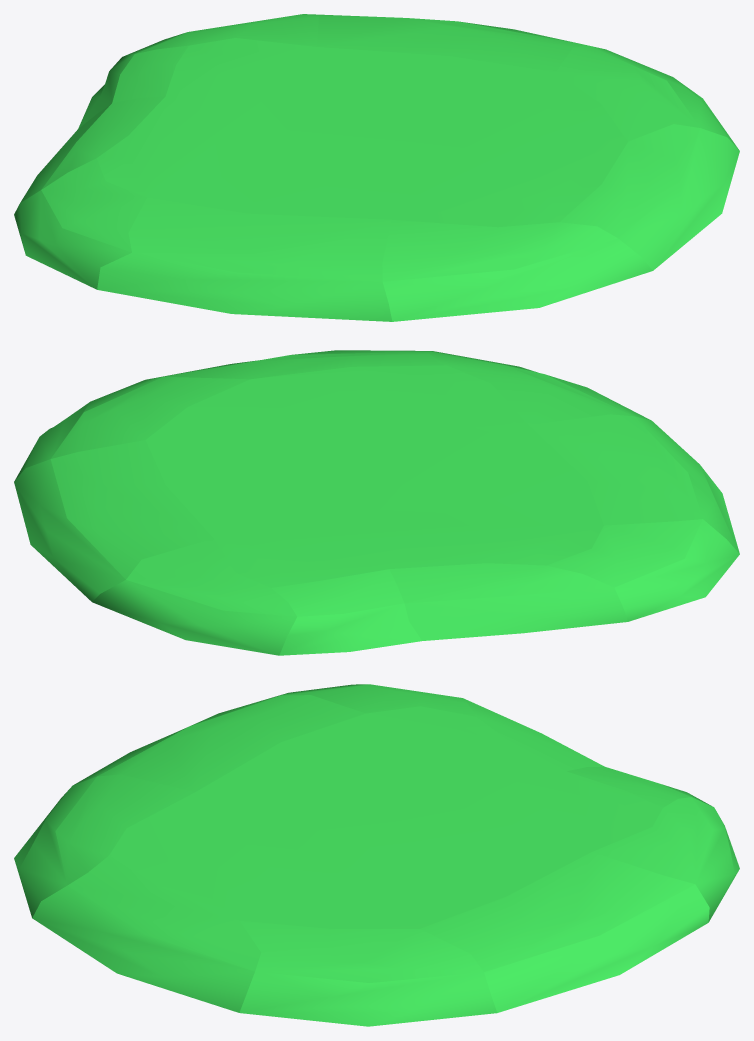
The model's file is testmodelsisland_Island_1__1__002.fbx.
3 renders of one model, top to bottom at view 1: azimuth 30°, elevation 25°; view 2: azimuth 150°, elevation 25°; view 3: azimuth 270°, elevation 25°, orthographic.
Parts seen in each view (by area): view 1: island_Island_1__1_.002; view 2: island_Island_1__1_.002; view 3: island_Island_1__1_.002.
Boxes of the visible parts, left/top/right/bottom form: island_Island_1__1_.002: left=14, top=14, right=739, bottom=321; island_Island_1__1_.002: left=14, top=350, right=739, bottom=655; island_Island_1__1_.002: left=14, top=684, right=739, bottom=1026.
Bounding box in the file's own units: 710 × 39.86 × 659.
